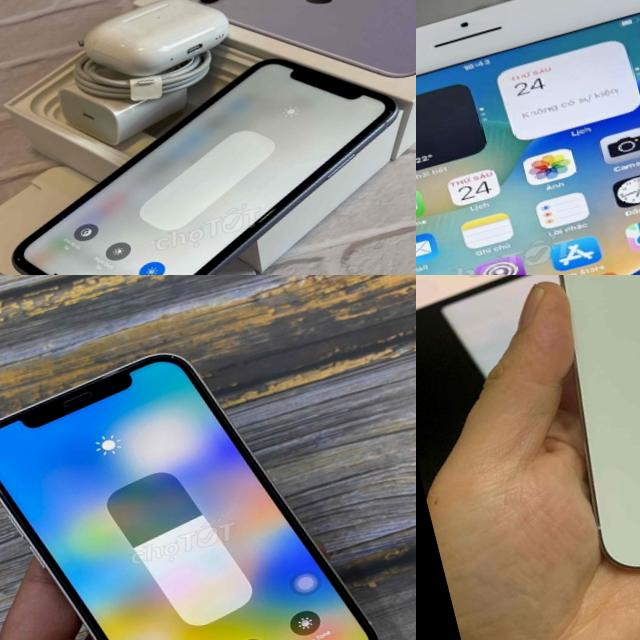gen_11: (0, 19, 416, 275)
gen_12_13: (0, 315, 396, 640), (488, 275, 640, 591)
gen_7_8: (416, 0, 640, 275)
